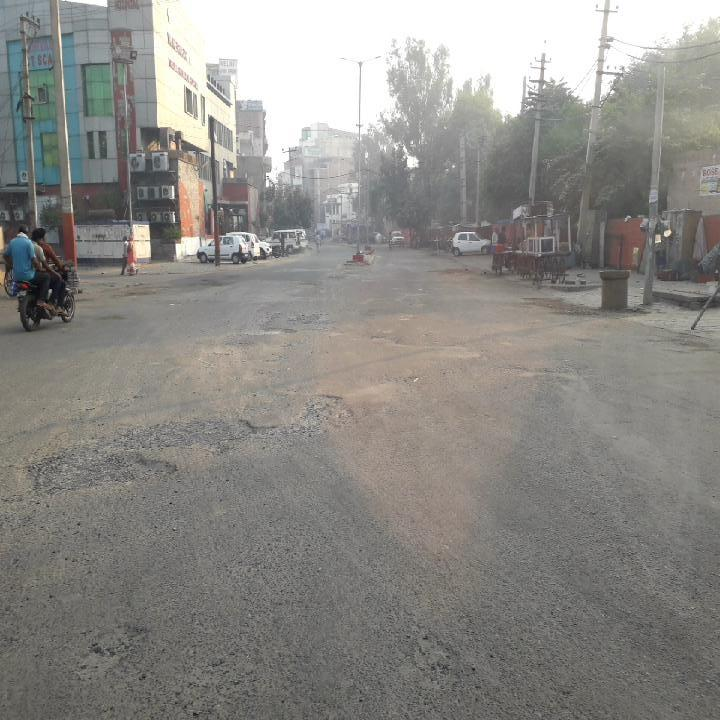pothole: (27, 389, 346, 500)
